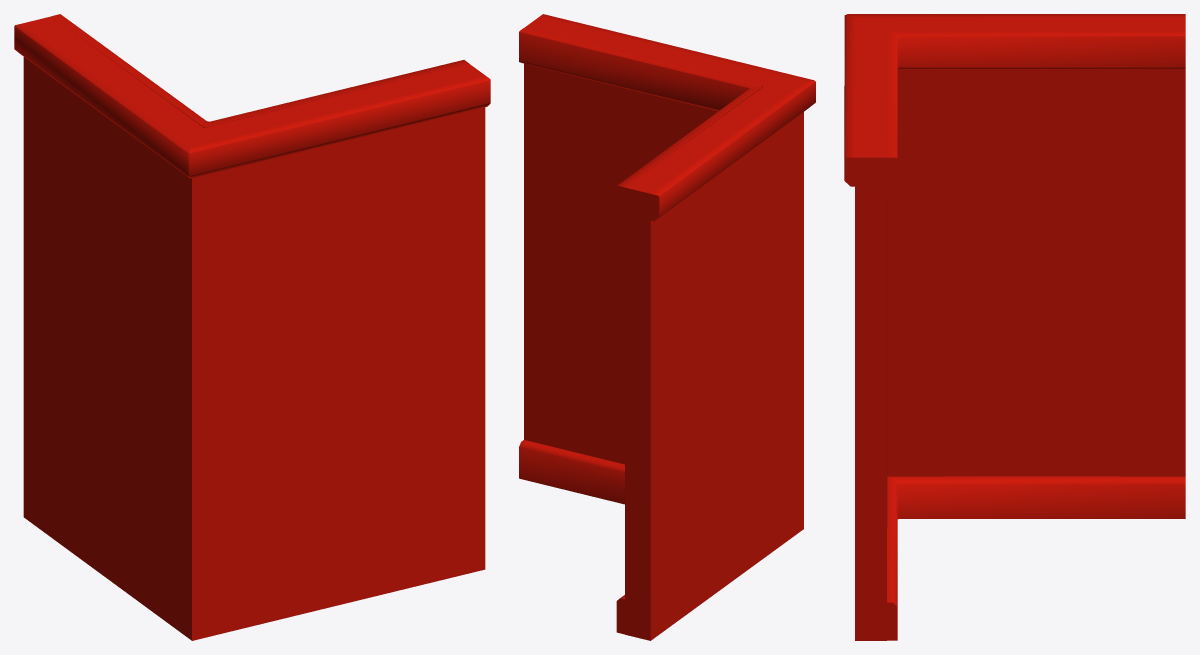
Rendered from IndBuilding1_Wall_Cor_A.fbx.
The picture shows the model from 3 angles, left to right: view 1: azimuth 30°, elevation 25°; view 2: azimuth 150°, elevation 25°; view 3: azimuth 270°, elevation 25°; orthographic projection. The views are drawn at different scales.
Parts seen in each view (by area): view 1: IndBuilding1_Wall_Cor_A; view 2: IndBuilding1_Wall_Cor_A; view 3: IndBuilding1_Wall_Cor_A.
Boxes of the visible parts, x1=… form: IndBuilding1_Wall_Cor_A: x1=14, y1=14, x2=490, y2=640; IndBuilding1_Wall_Cor_A: x1=519, y1=14, x2=815, y2=640; IndBuilding1_Wall_Cor_A: x1=844, y1=14, x2=1185, y2=640.
Bounding box in the file's own units: 3.2 × 5 × 3.2.
